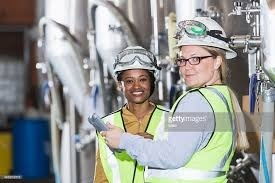helmet: (172, 16, 232, 53), (115, 47, 160, 74)
person with full safety: (166, 12, 240, 182), (97, 47, 162, 181)
safety vest: (169, 86, 235, 181), (100, 101, 162, 179)
